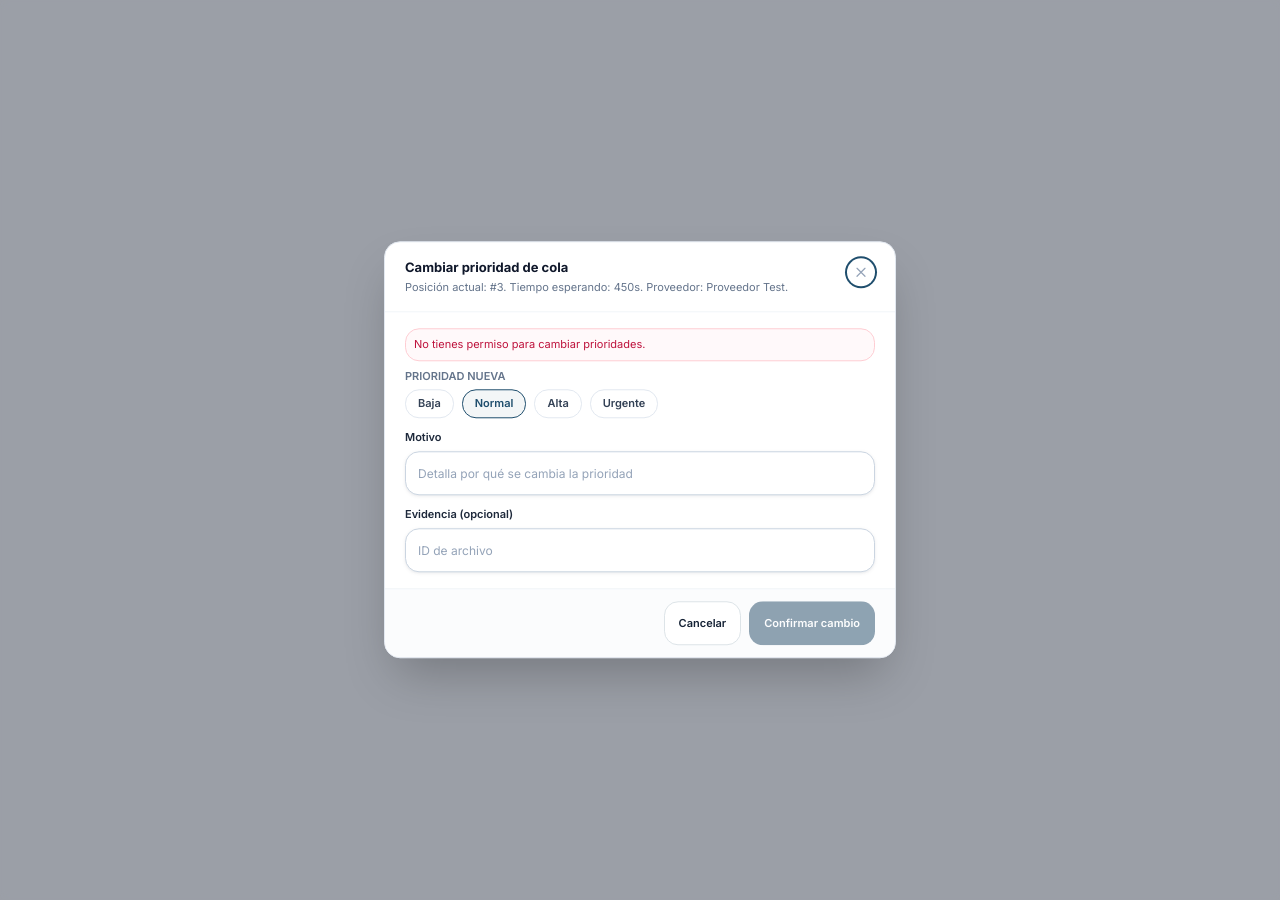
ChangeDockQueuePriorityDialog › permite seleccionar opciones de prioridad (LOW, NORMAL, HIGH, URGENT)
This screenshot has width=1280, height=900.
Expected: the radio button "Baja" is shown, [405,389,454,418]
Expected: the radio button "Normal" is shown, [462,389,526,418]
Click the radio button "Urgente": (624,404) [590,389,658,418]
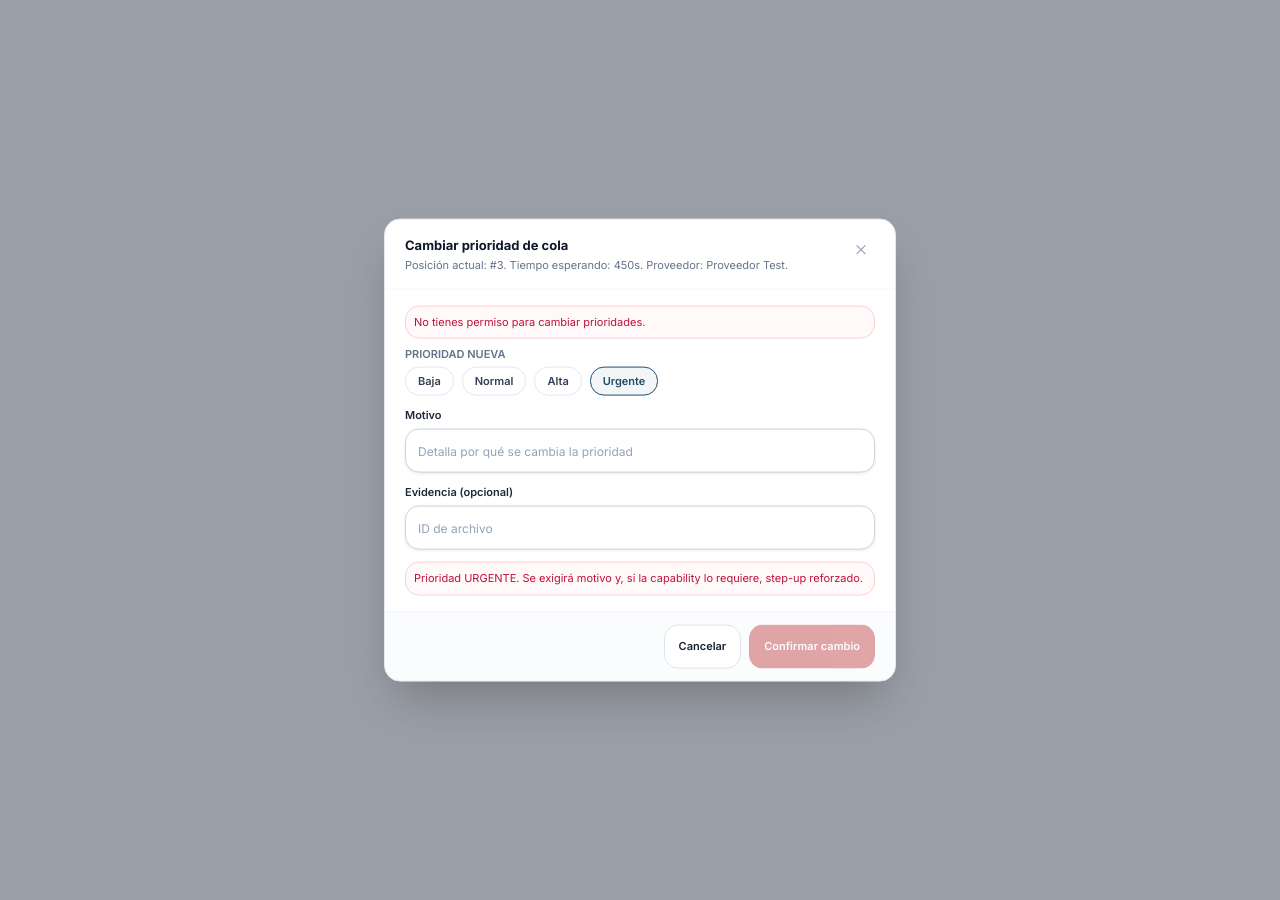
Now the text "Prioridad URGENTE. Se exigirá motivo" is shown, box [414,571,863,585]
